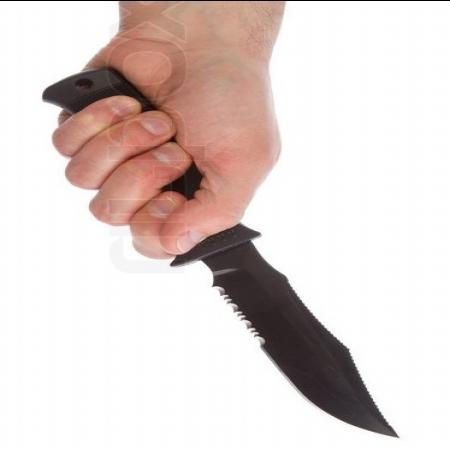long weapon: (51, 109, 413, 443)
